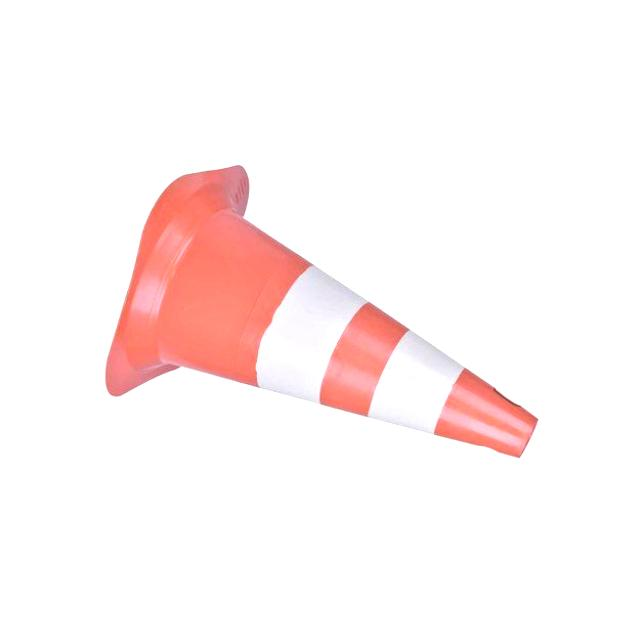cone: (102, 165, 542, 464)
